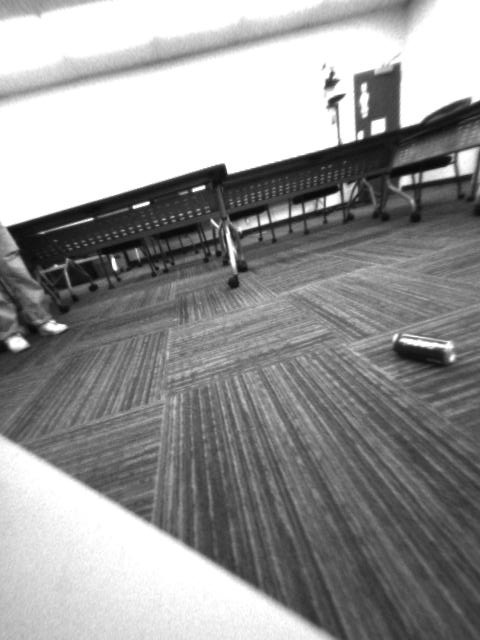can: (387, 323, 459, 372)
